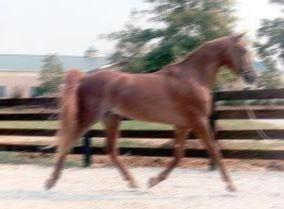horse: (39, 29, 256, 191)
